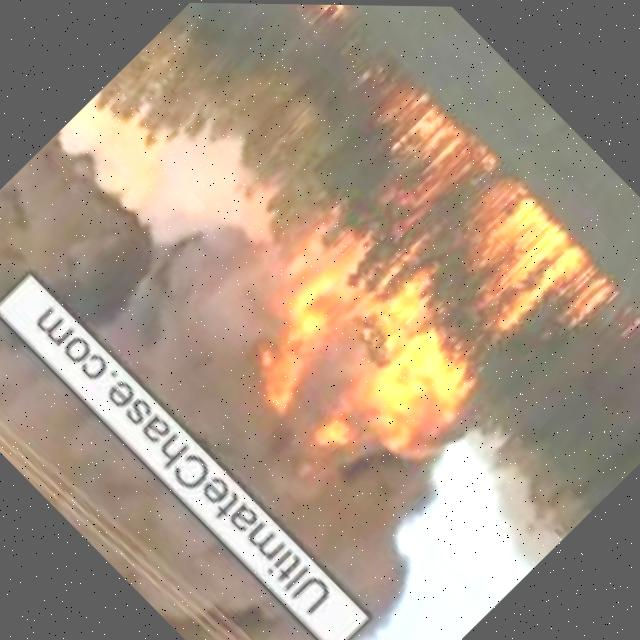Fire: (161, 57, 615, 516), (257, 3, 356, 41)
Smoke: (0, 67, 540, 636), (0, 254, 336, 640)
